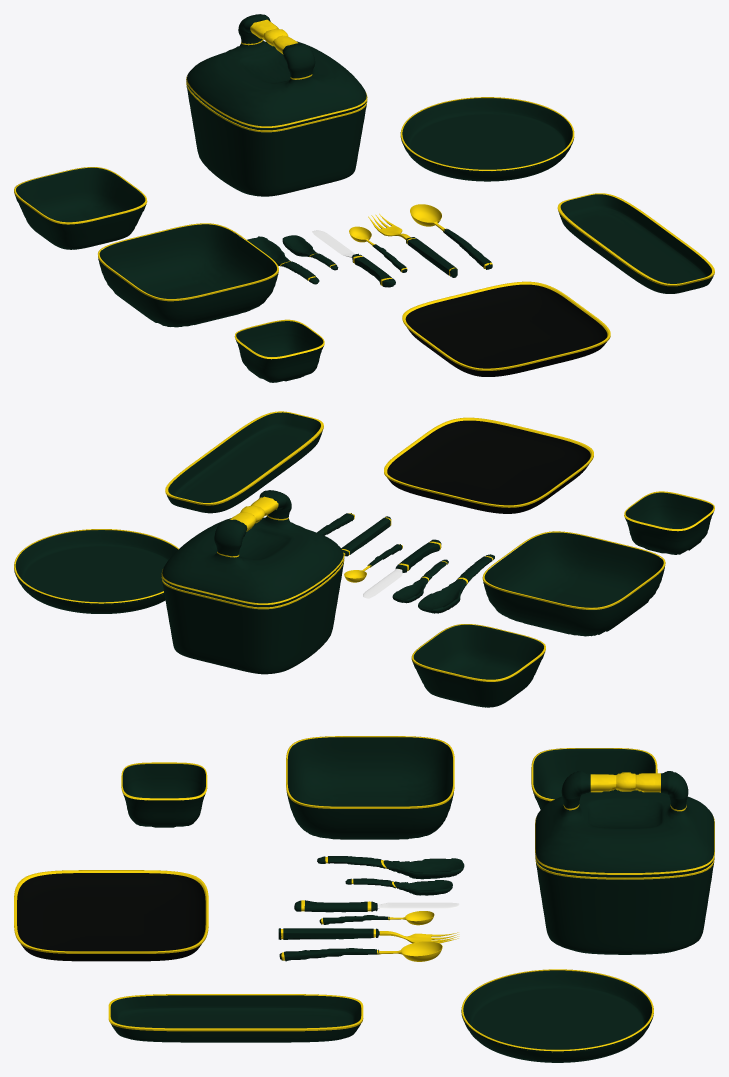
Rendered from dinner_set_elegant.glb.
The picture shows the model from 3 angles, top to bottom: view 1: azimuth 30°, elevation 25°; view 2: azimuth 150°, elevation 25°; view 3: azimuth 270°, elevation 25°; orthographic projection. The views are drawn at different scales.
Parts seen in each view (by area): view 1: Object_5, Object_42, Object_6, Object_9; view 2: Object_5, Object_42, Object_6; view 3: Object_5, Object_42, Object_6, Object_9, Object_13.
Boxes of the visible parts, <box> form: Object_5: <box>15,14,713,382</box>; Object_42: <box>405,284,607,376</box>; Object_6: <box>14,19,714,370</box>; Object_9: <box>280,204,492,285</box>; Object_5: <box>14,412,714,707</box>; Object_42: <box>387,420,590,513</box>; Object_6: <box>14,411,714,681</box>; Object_5: <box>110,737,714,1062</box>; Object_42: <box>17,873,205,961</box>; Object_6: <box>14,736,714,1052</box>; Object_9: <box>281,856,459,961</box>; Object_13: <box>377,902,459,908</box>.
Bounding box in the file's own units: 0.7897 × 0.2014 × 0.8242.
